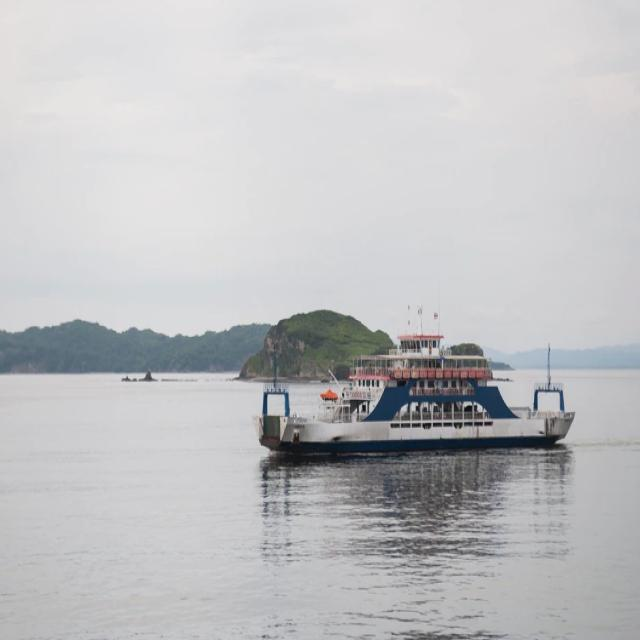passenger ship: (254, 297, 585, 459)
